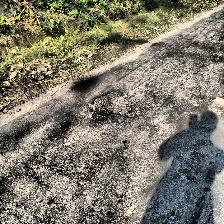pothole: (88, 90, 130, 119)
